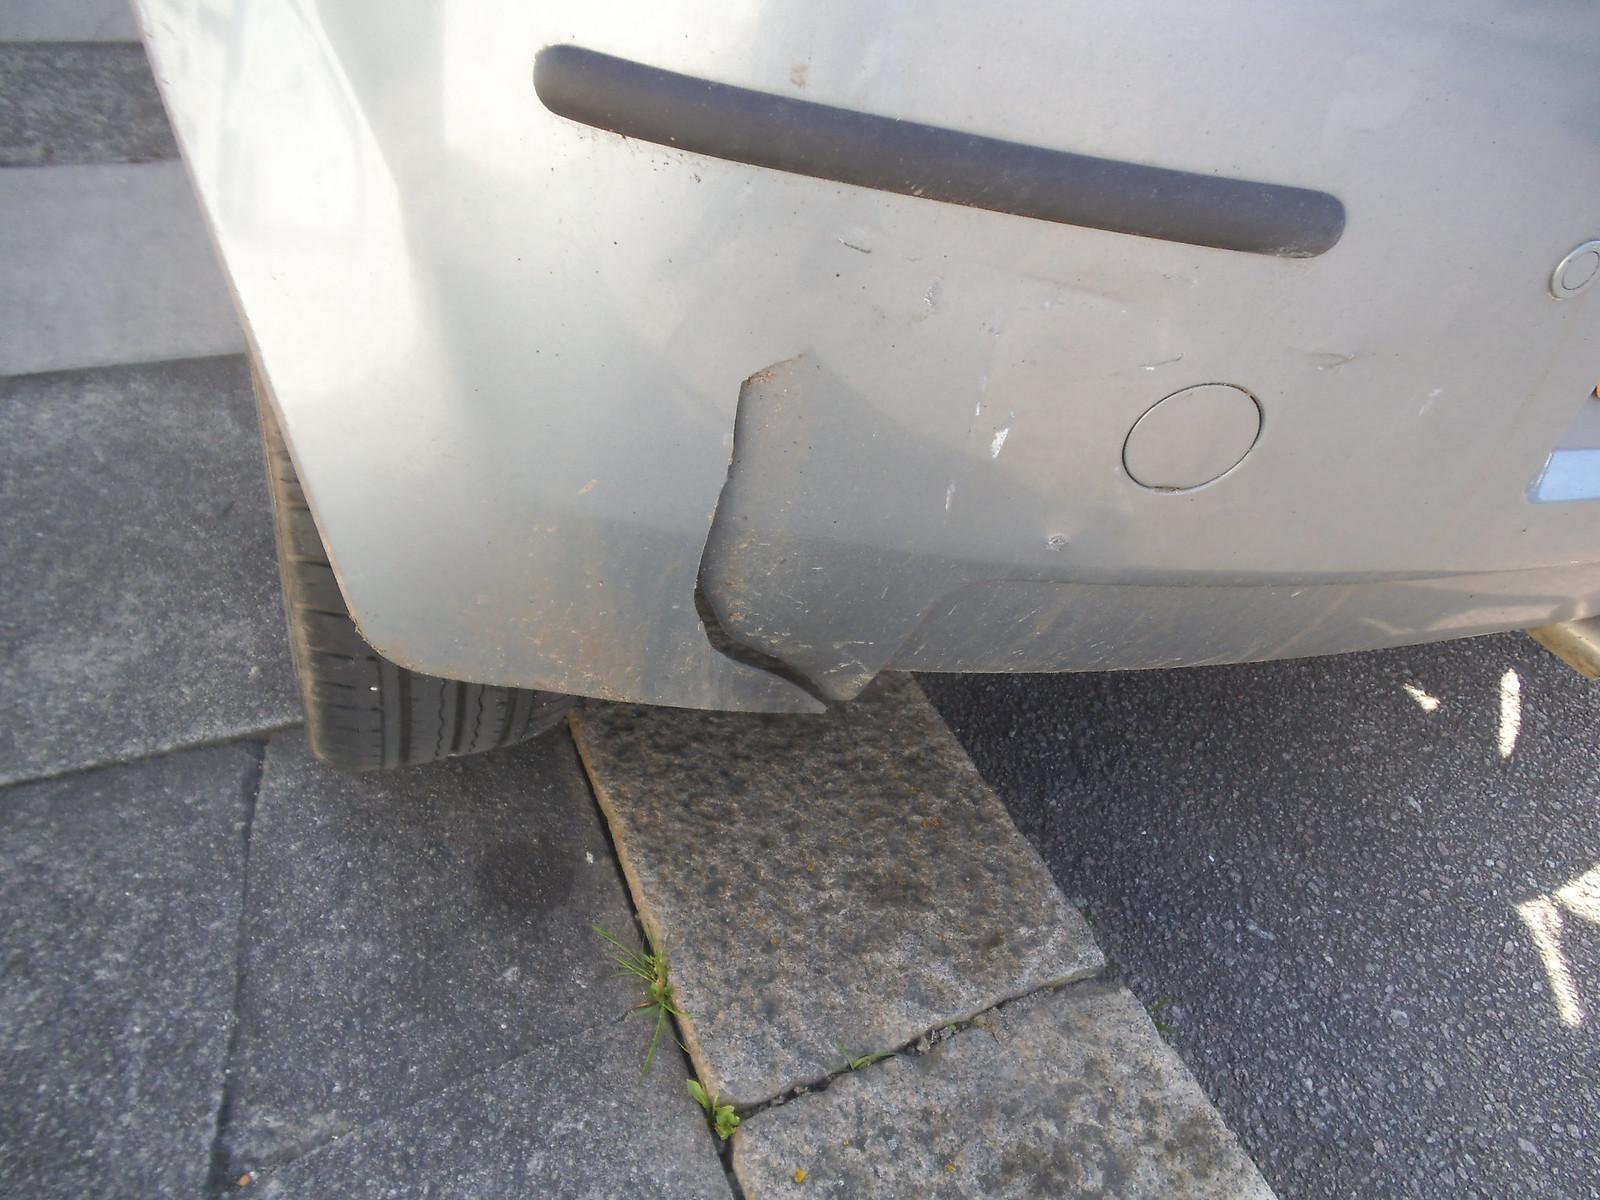rear-bumper-dent: (338, 77, 1448, 710)
